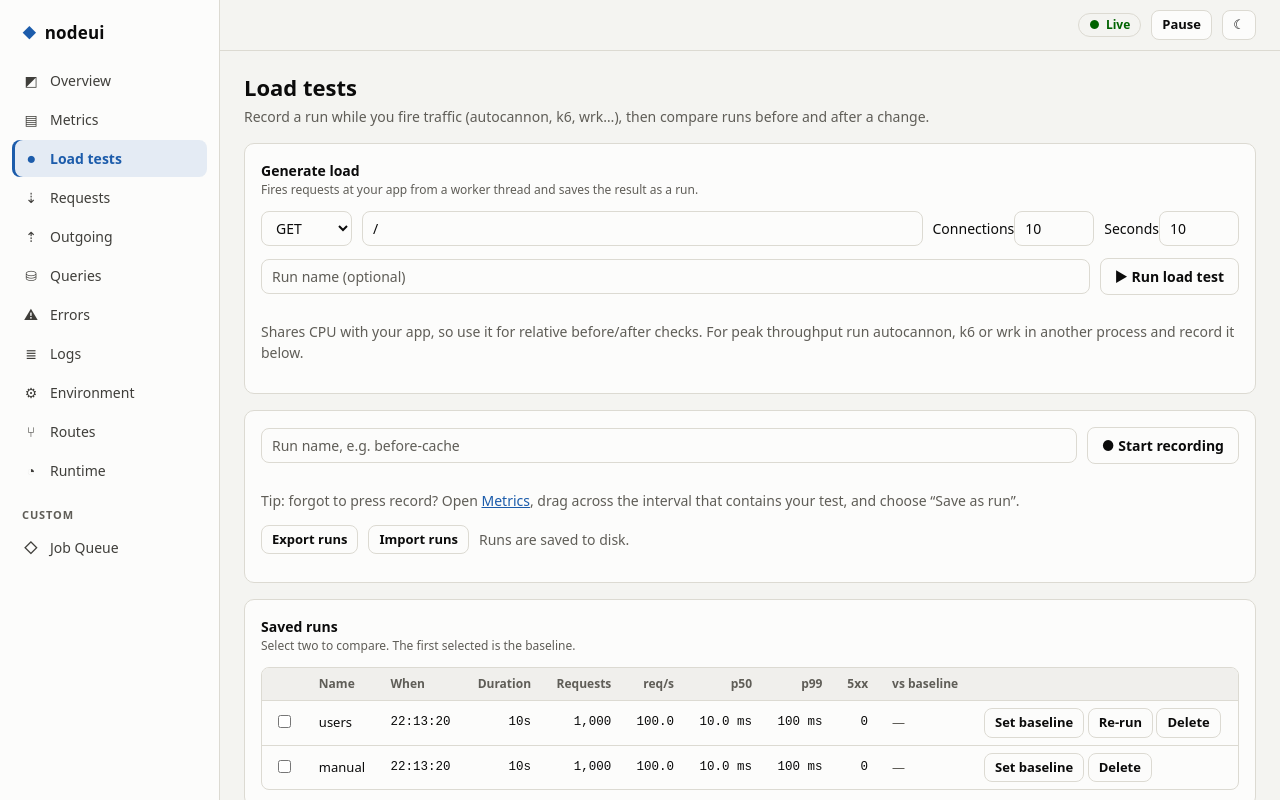
Test: Load generator › re-runs a generated run with the same settings and compares with the original
Click the button with aria-label "Re-run users": (1120, 723) [1088,708,1153,738]
(page scrolled)
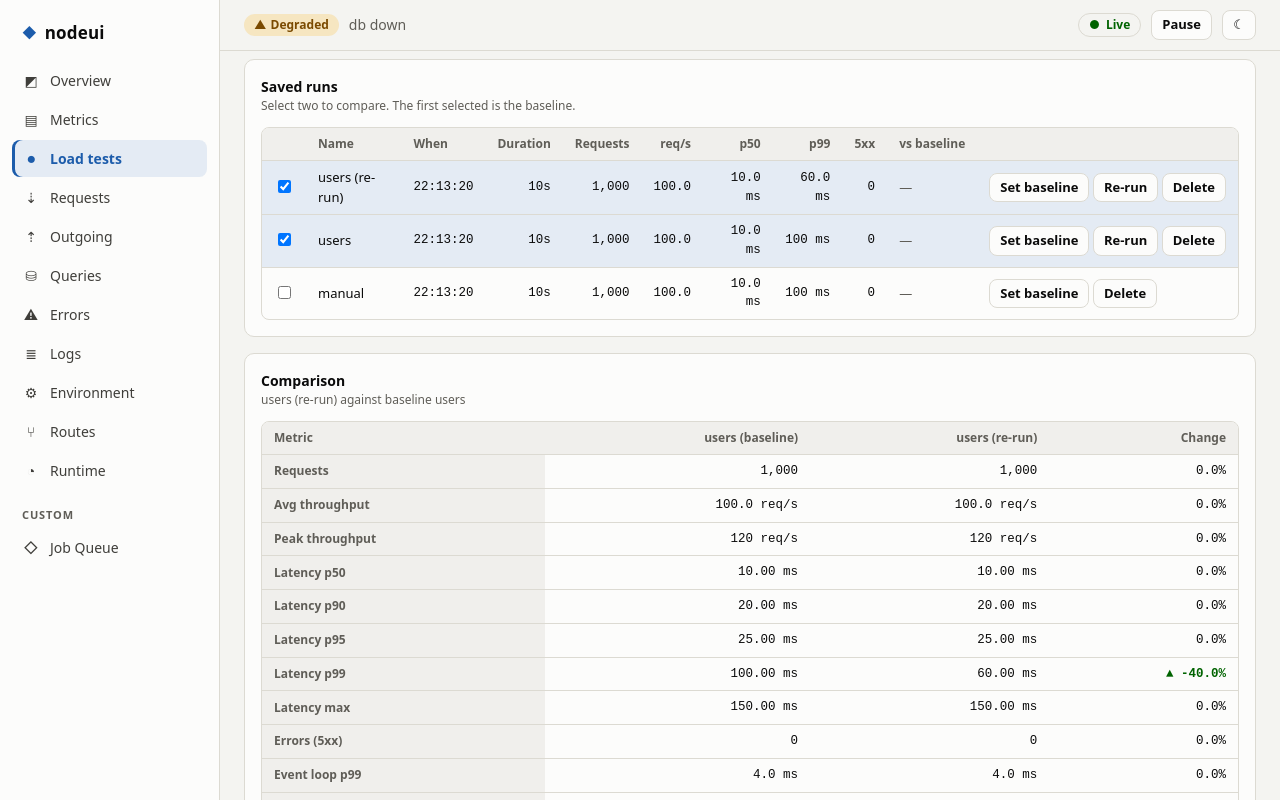
Expected: the heading "Comparison" is shown, [261,371,345,390]
Expected: the text "users (re-run) against baseline users" is shown, [261,391,466,409]
